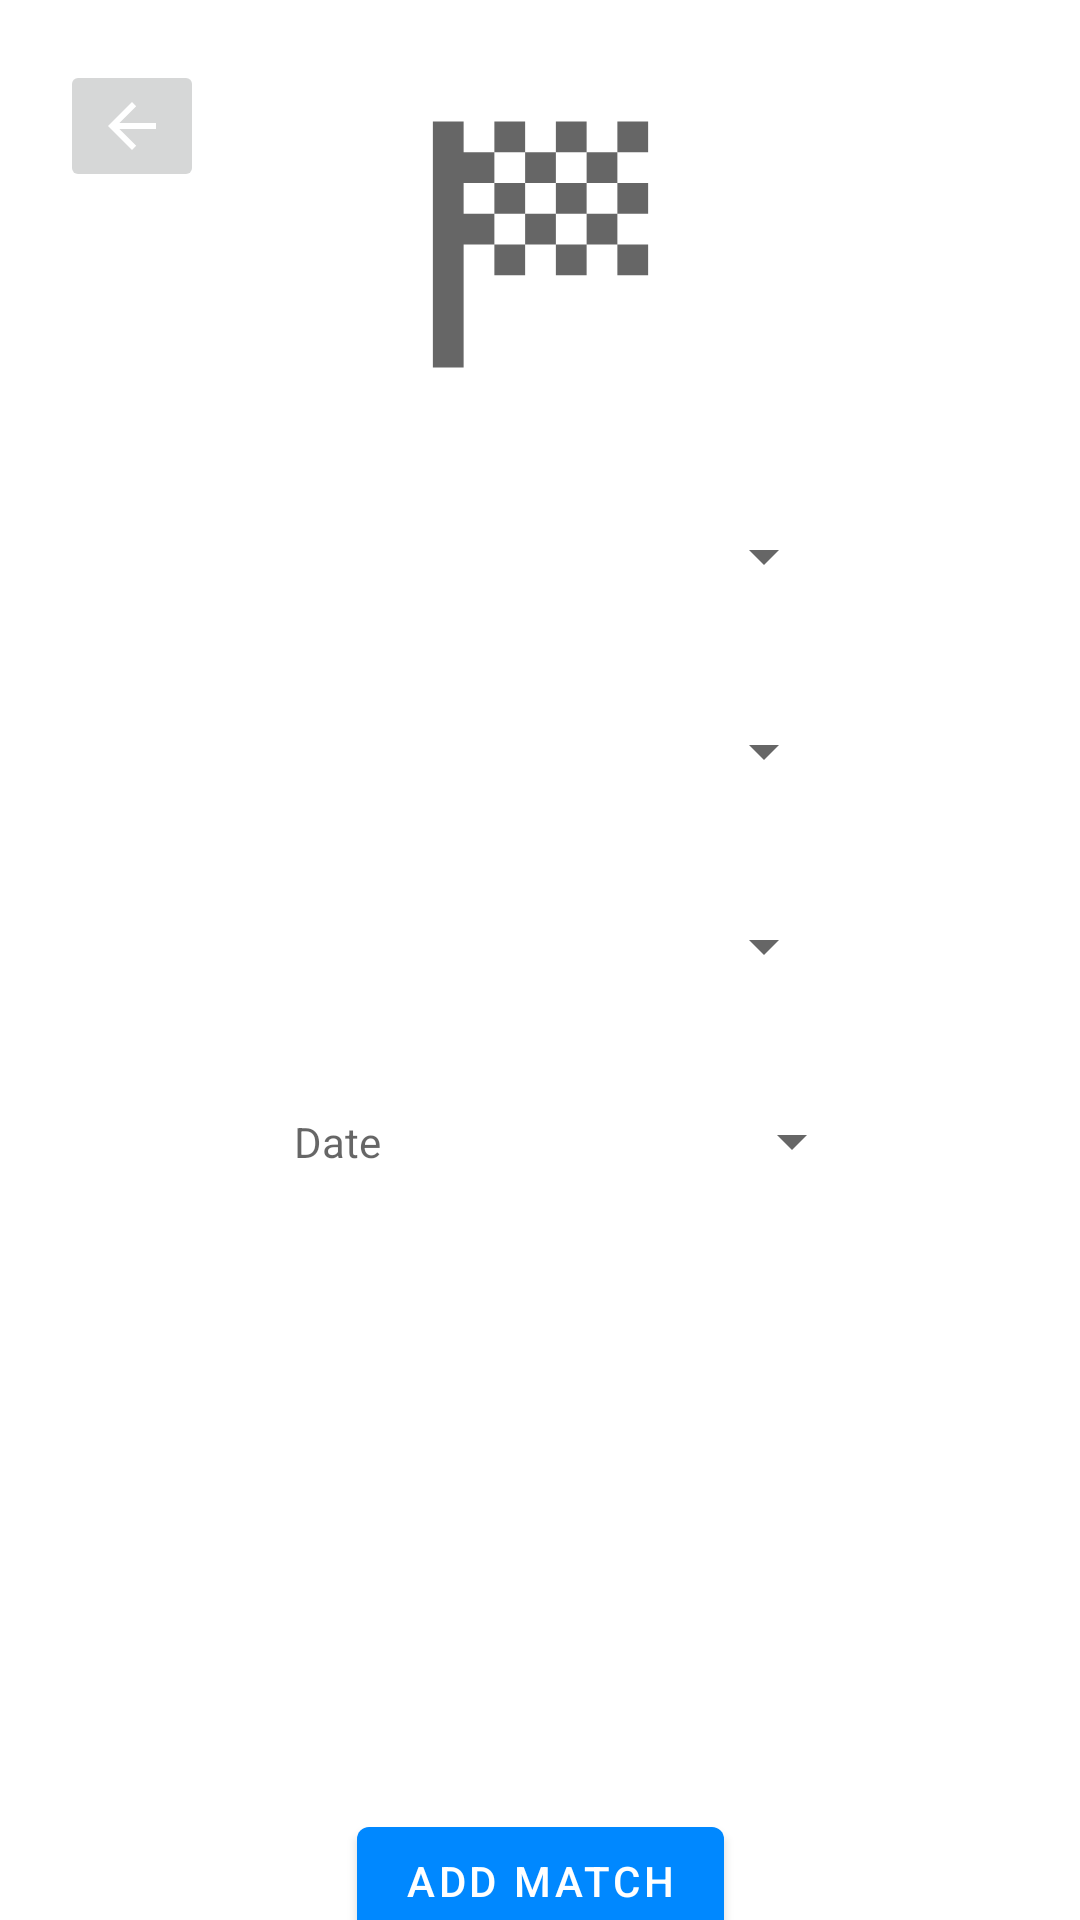

Screen size 1080*1920. Icon name, then its center in pixels as (x=x, y=y):
matches: (x=540, y=244)
